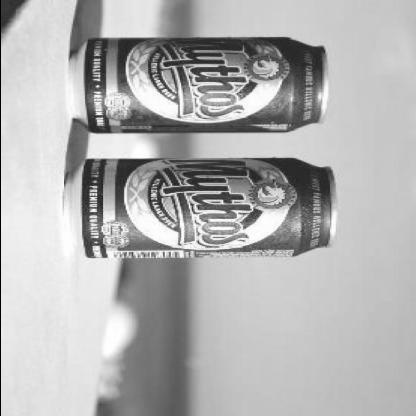alumunium_can: (60, 160, 339, 260), (66, 32, 330, 136)
